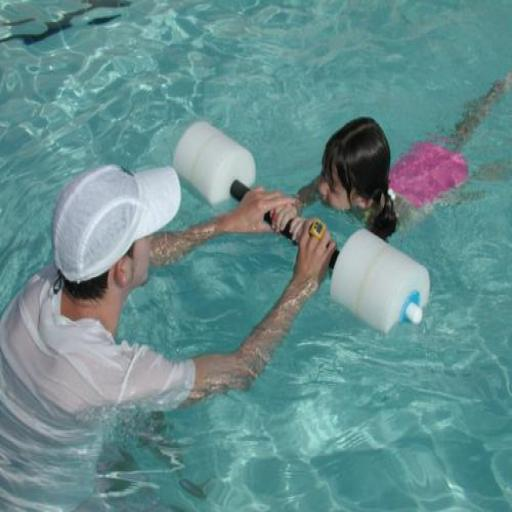swimming: (291, 64, 511, 242)
